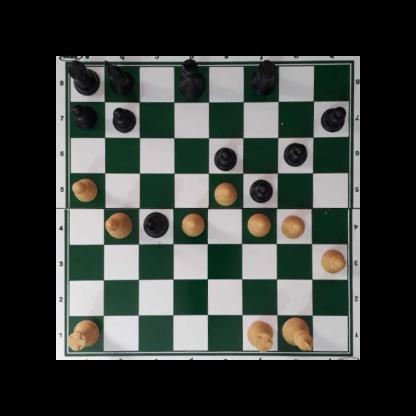black-bishop: (142, 212, 169, 238)
black-king: (177, 58, 207, 99)
black-knight: (104, 61, 134, 93)
black-pawn: (320, 105, 347, 133), (70, 102, 97, 130), (112, 107, 137, 134), (212, 146, 237, 171), (283, 141, 307, 166), (250, 177, 273, 203)
black-rook: (66, 58, 100, 96), (249, 59, 277, 96)
white-bishop: (105, 212, 132, 238)
white-king: (281, 316, 314, 352)
white-pawn: (319, 248, 346, 274), (280, 213, 305, 239), (71, 177, 98, 201), (212, 181, 238, 205), (247, 212, 271, 236), (180, 212, 204, 236)
white-rook: (68, 318, 101, 350), (245, 320, 274, 351)
